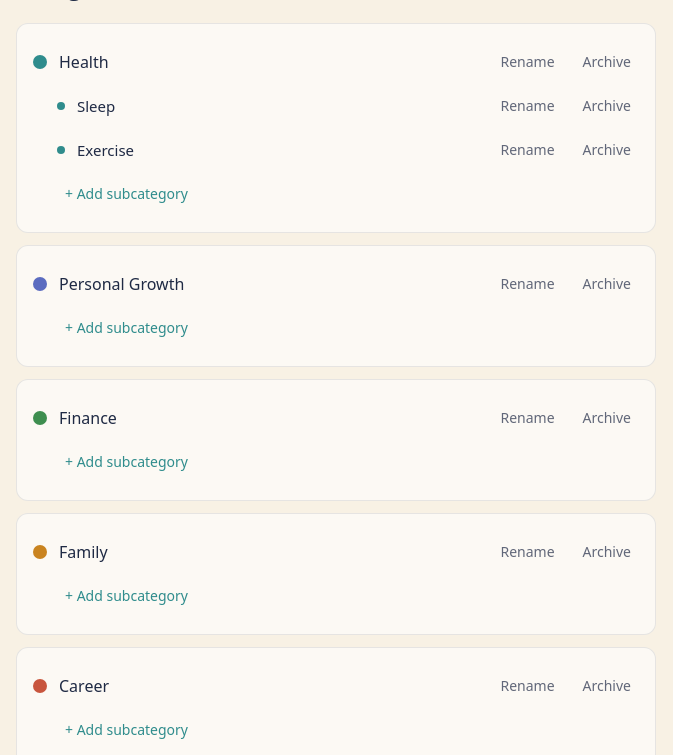
Scenario: CategoriesScreen › undo reverses exactly what the archive did: main and the subs it archived
This screenshot has width=673, height=755.
Click the button with aria-label "Archive Health": (607, 62) [574,40,639,84]
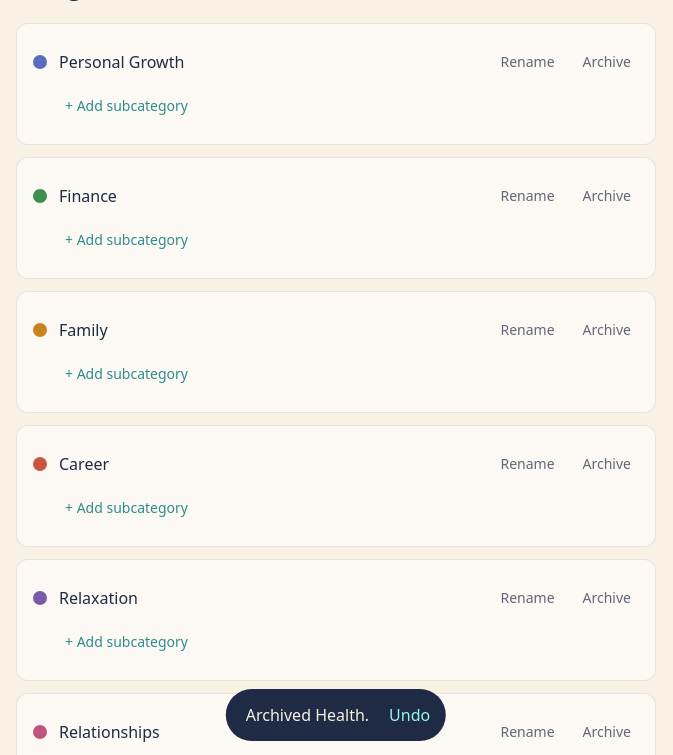
Now the text "Archived Health." is shown, box [246,703,369,727]
Click the button "Undo": (410, 715) [381,693,438,737]
(page scrolled)
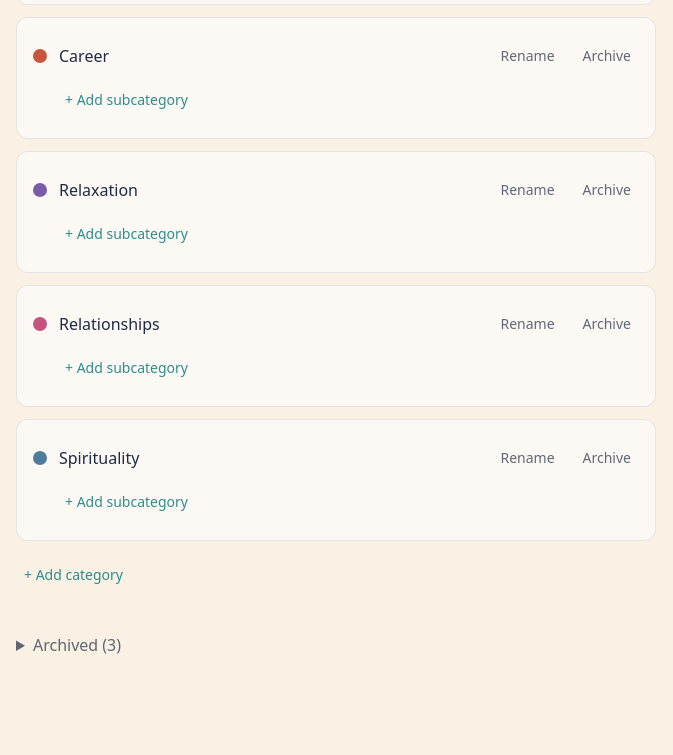
Now the heading "Archived (3)" is shown, box [33,634,121,656]
